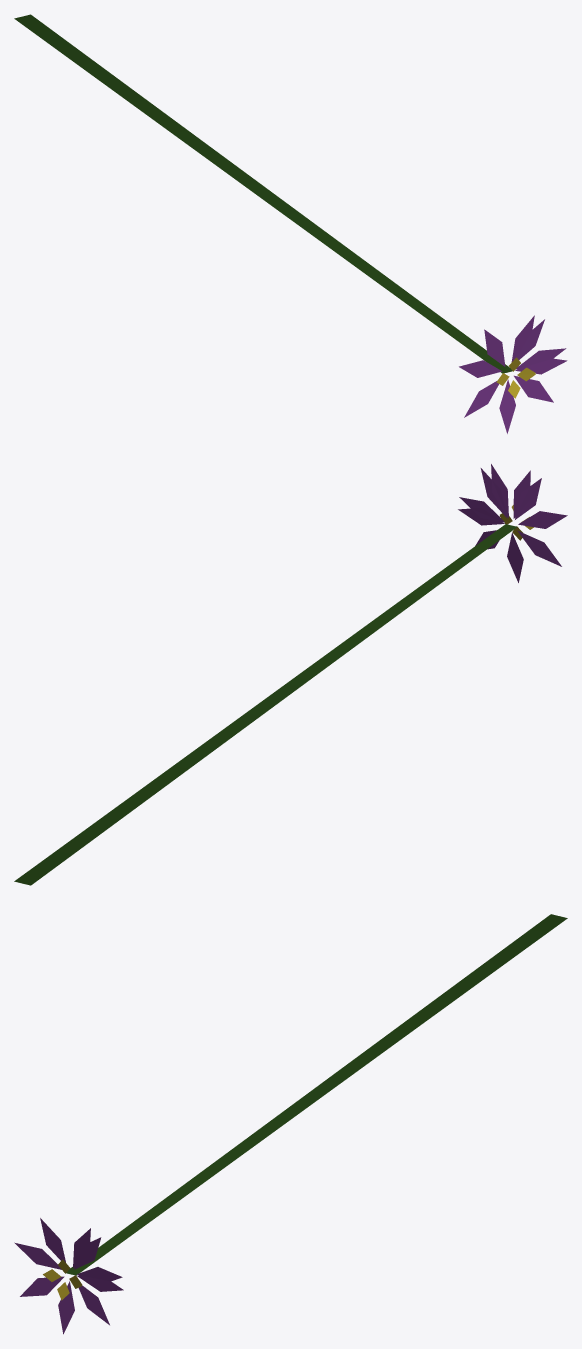
Rendered from Flower_Aster.glb.
3 views of the same model, one above another, from view 1: azimuth 30°, elevation 25°; view 2: azimuth 150°, elevation 25°; view 3: azimuth 330°, elevation 25° (orthographic).
Visible parts, largest first — view 1: Flower_Aster; view 2: Flower_Aster; view 3: Flower_Aster.
Boxes of the visible parts, x1,y1,x2,y2 form: Flower_Aster: [14, 14, 567, 433]; Flower_Aster: [14, 464, 567, 885]; Flower_Aster: [14, 914, 567, 1334].
Size of the model in its own units: 0.026 by 0.0263 by 0.2032.
